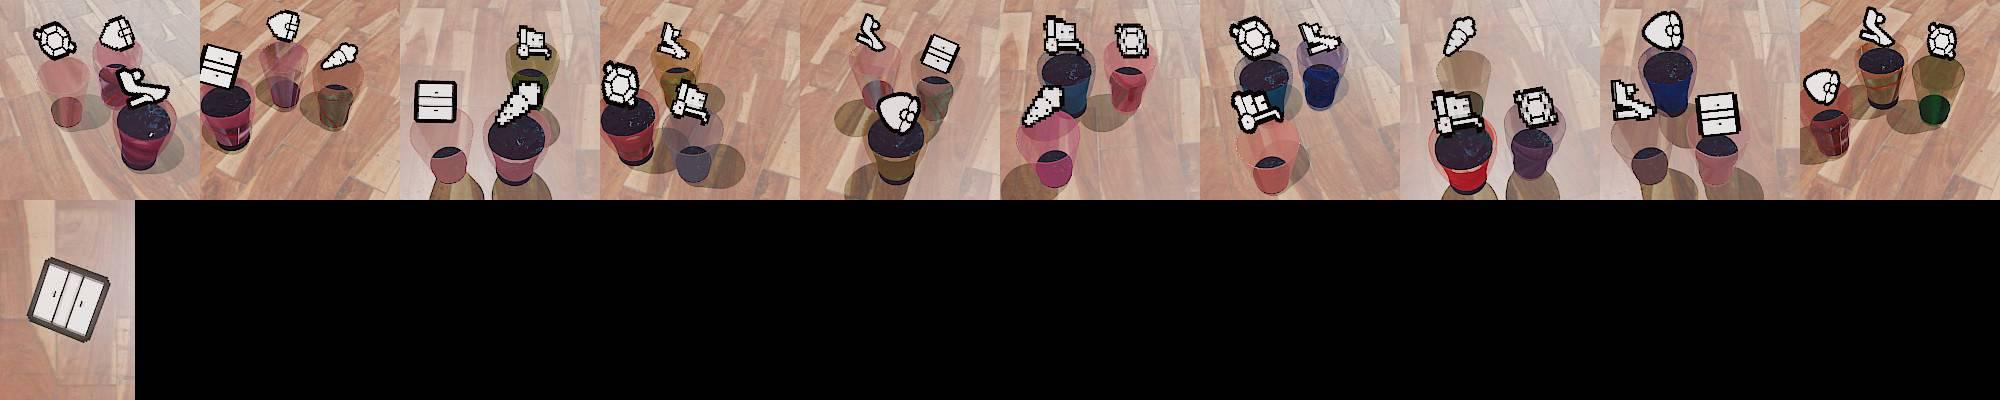icon: (26, 256, 112, 346), (116, 65, 172, 110), (1430, 89, 1480, 138), (1231, 17, 1281, 64), (492, 79, 542, 125), (1695, 89, 1741, 138), (1231, 88, 1281, 132), (1610, 78, 1658, 122), (413, 79, 458, 125), (875, 90, 921, 134), (1513, 87, 1557, 130), (668, 80, 712, 125), (1019, 84, 1064, 127), (199, 43, 240, 90), (601, 60, 642, 106), (1640, 10, 1684, 52), (33, 20, 78, 61), (920, 33, 959, 76), (1296, 20, 1342, 57), (1042, 14, 1083, 55), (1860, 6, 1897, 51), (1441, 15, 1478, 59), (1802, 68, 1842, 106), (98, 15, 136, 51), (515, 24, 551, 60), (855, 13, 886, 52), (1114, 23, 1149, 57), (264, 10, 300, 43), (657, 22, 689, 59), (1926, 22, 1957, 59), (320, 42, 358, 70)
